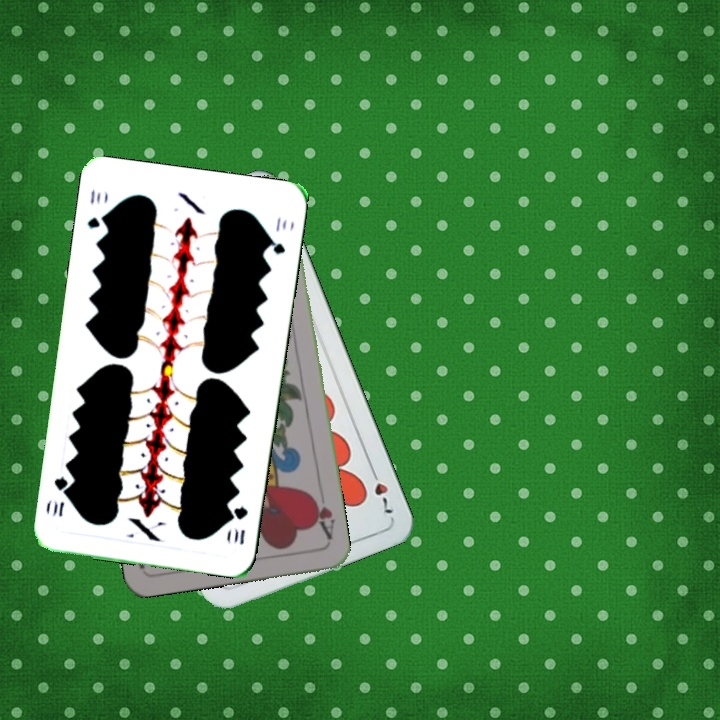G10: (83, 185, 110, 231), (229, 502, 250, 547)
H7: (366, 463, 396, 517)
HA: (306, 485, 338, 542)
